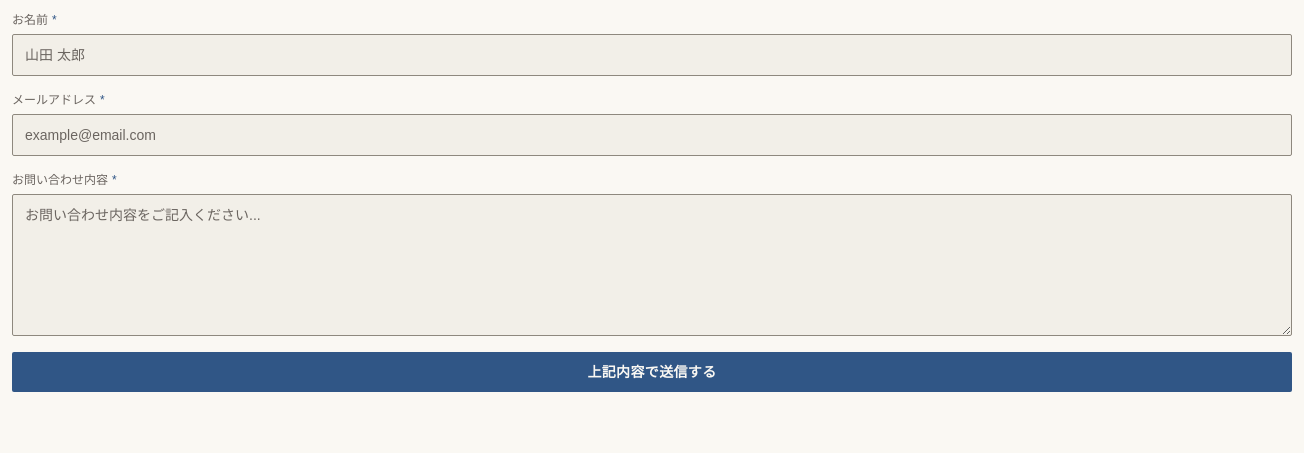
ContactForm › 文字数が下限に満たなければ文字数エラーを出す（必須エラーではなく）
Type "山" into the field labelled "お名前*". click: coordinates (652, 55)
box: [12,34,1292,76]
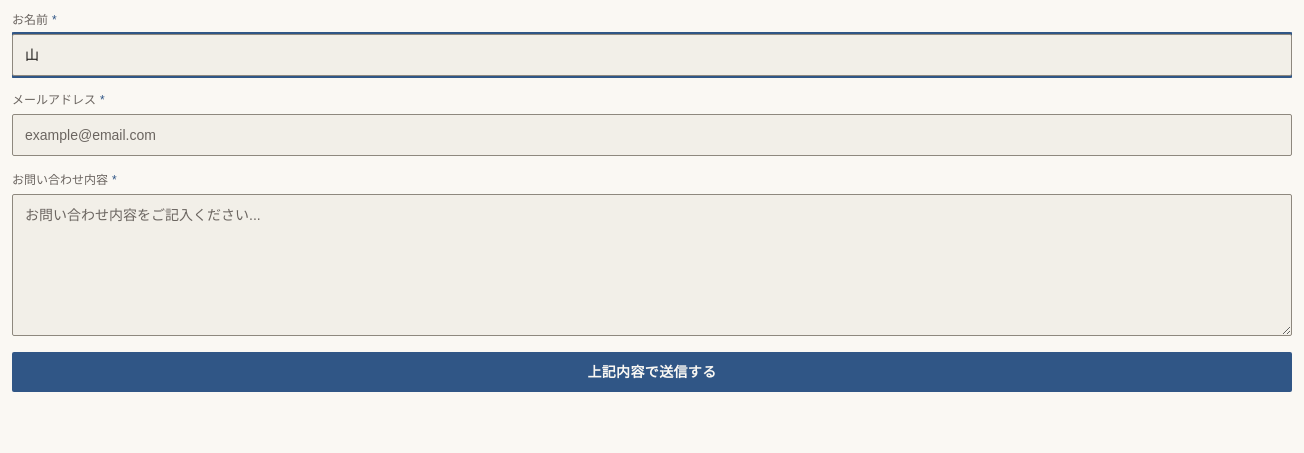
Type "taro@example.com" into the field labelled "メールアドレス*". click: coordinates (652, 135)
box: [12,114,1292,156]
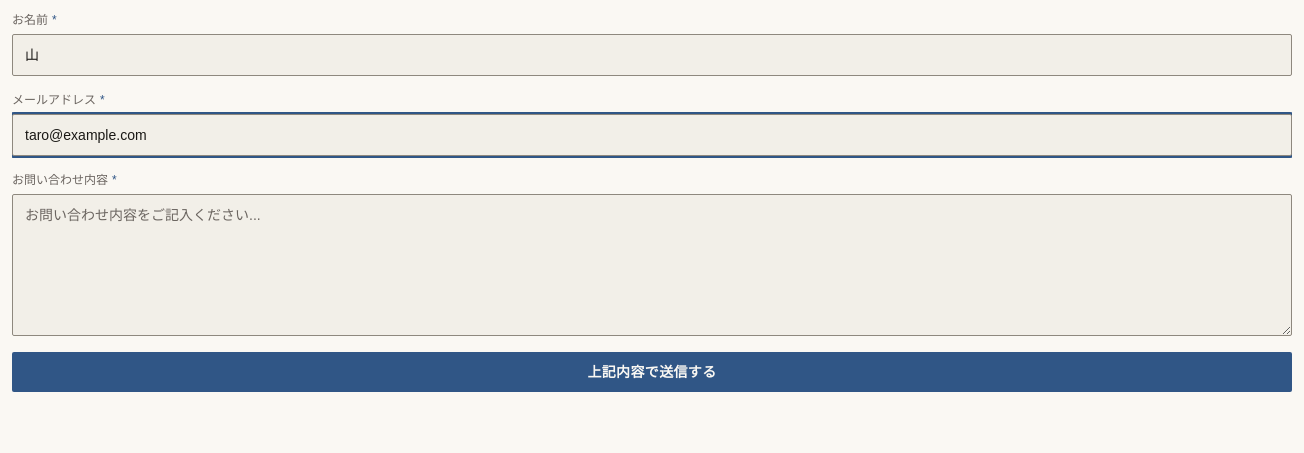
Type "短い" into the text box labelled "お問い合わせ内容*". click: coordinates (652, 265)
box: [12,194,1292,336]
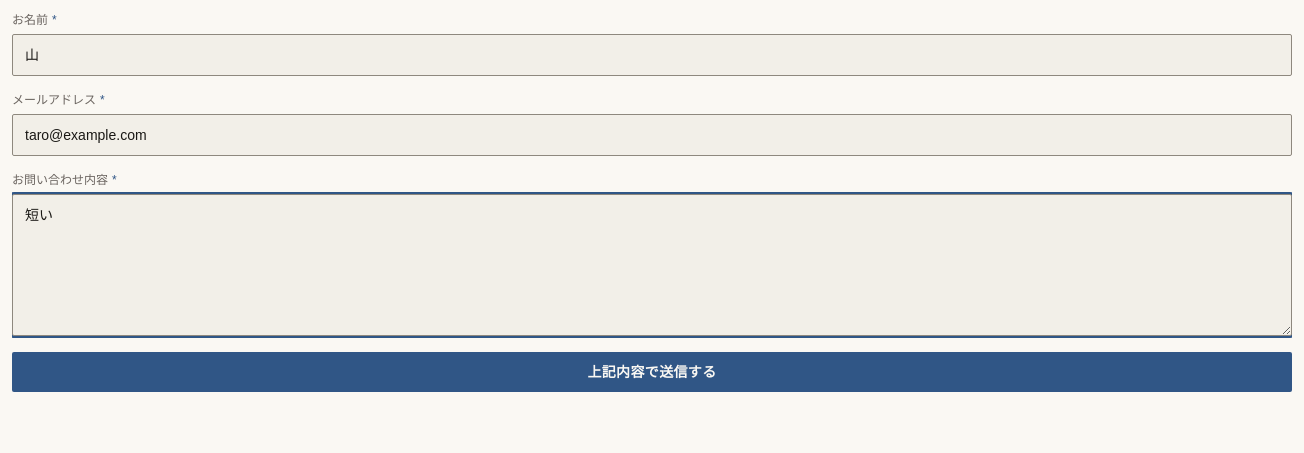
Click the button "上記内容で送信する". click: coordinates (652, 372)
box: [12,352,1292,392]
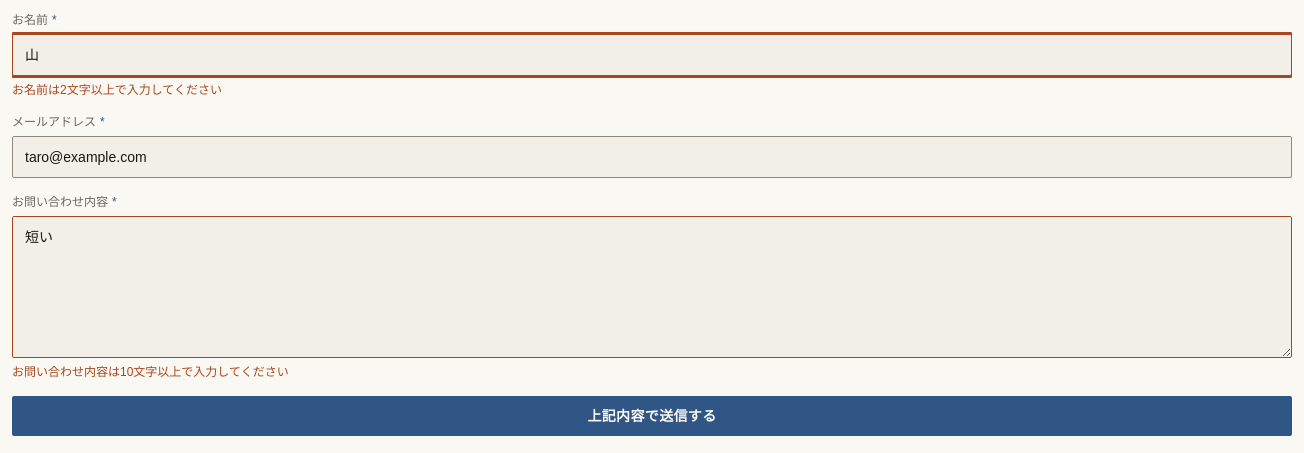
Expected: the text "お名前は2文字以上で入力してください" is shown, [12,83,222,97]
Expected: the text "お問い合わせ内容は10文字以上で入力してください" is shown, [12,365,289,379]
